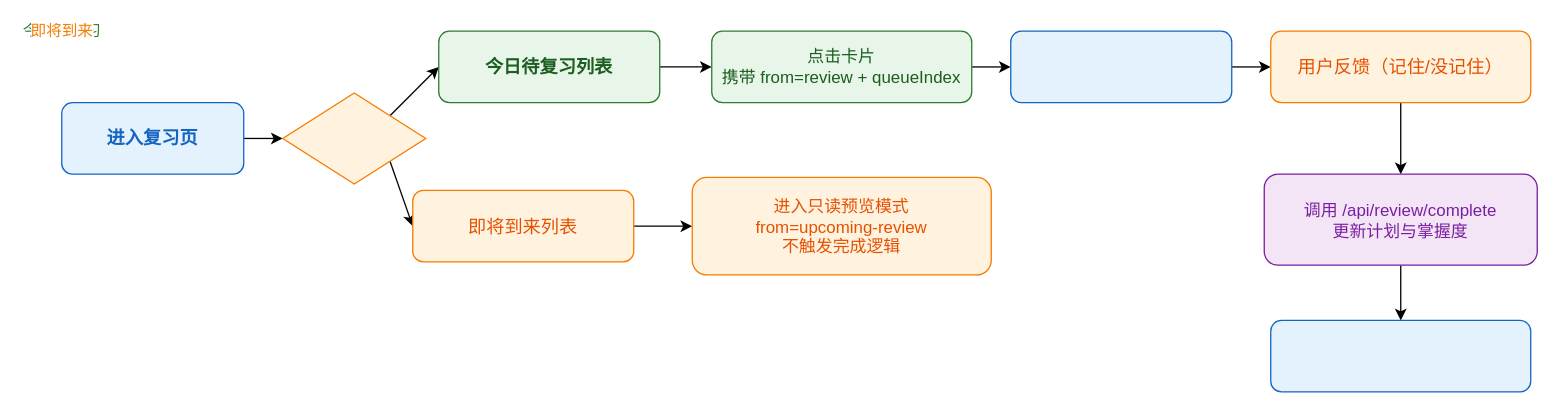
Image size: 1560x415. Some labels were removed from this diagram. Here are the shapes that lost their labels. From the top down, the centre of each, then its label:
At [1120,66]: "卡片页 识别 from=review 模式".
At [353,138]: "列表类型？".
At [1400,355]: "按队列索引自动跳转下一张".
